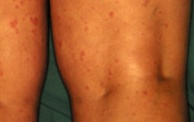SJS-TEN: (47, 0, 192, 122), (0, 0, 49, 122)
